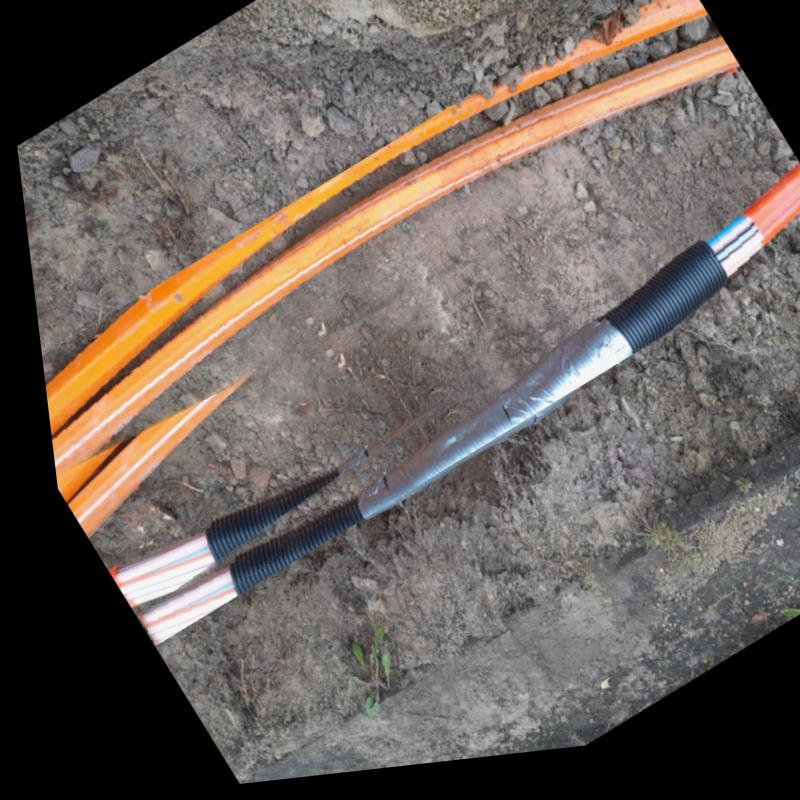Orang-Speednetrohrchen: (37, 8, 735, 489), (117, 177, 800, 634)
